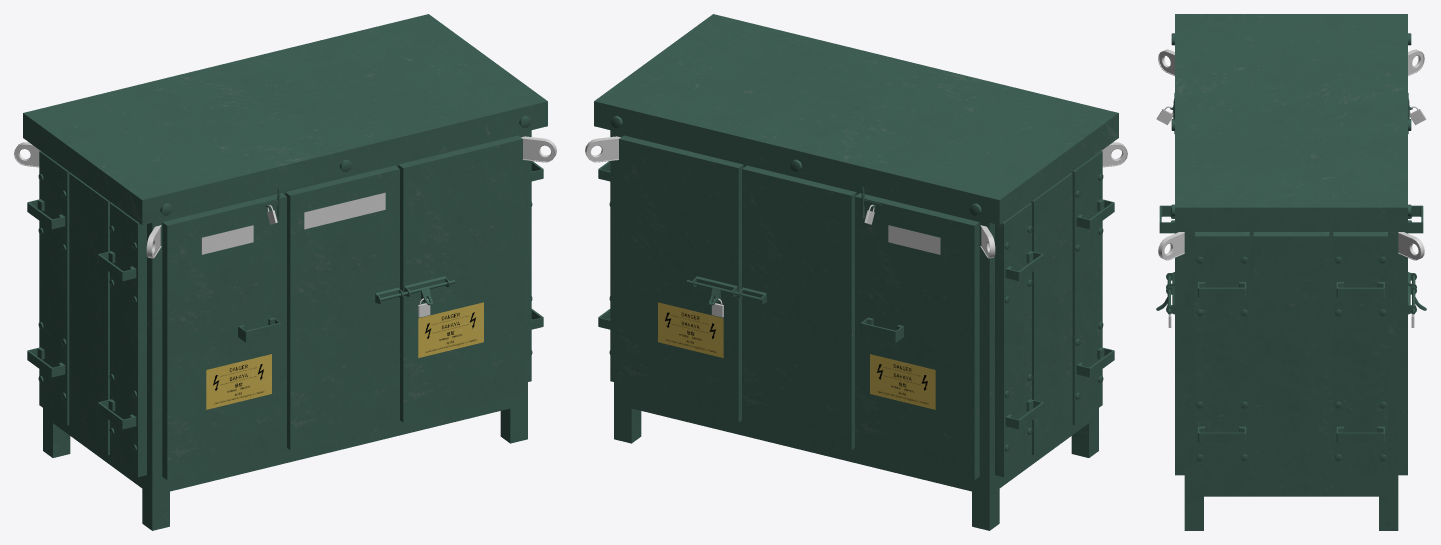
The model's file is electricalBox.fbx.
The picture shows the model from 3 angles, left to right: view 1: azimuth 30°, elevation 25°; view 2: azimuth 150°, elevation 25°; view 3: azimuth 270°, elevation 25°; orthographic projection. The views are drawn at different scales.
Visible parts, largest first — view 1: electricalBox_lo; view 2: electricalBox_lo; view 3: electricalBox_lo.
Part boxes in pixels (x1,y1,x2,y2): electricalBox_lo: [14, 14, 556, 530]; electricalBox_lo: [585, 14, 1127, 530]; electricalBox_lo: [1156, 14, 1426, 530].
Bounding box in the file's own units: 2.78 × 2.13 × 1.58.
